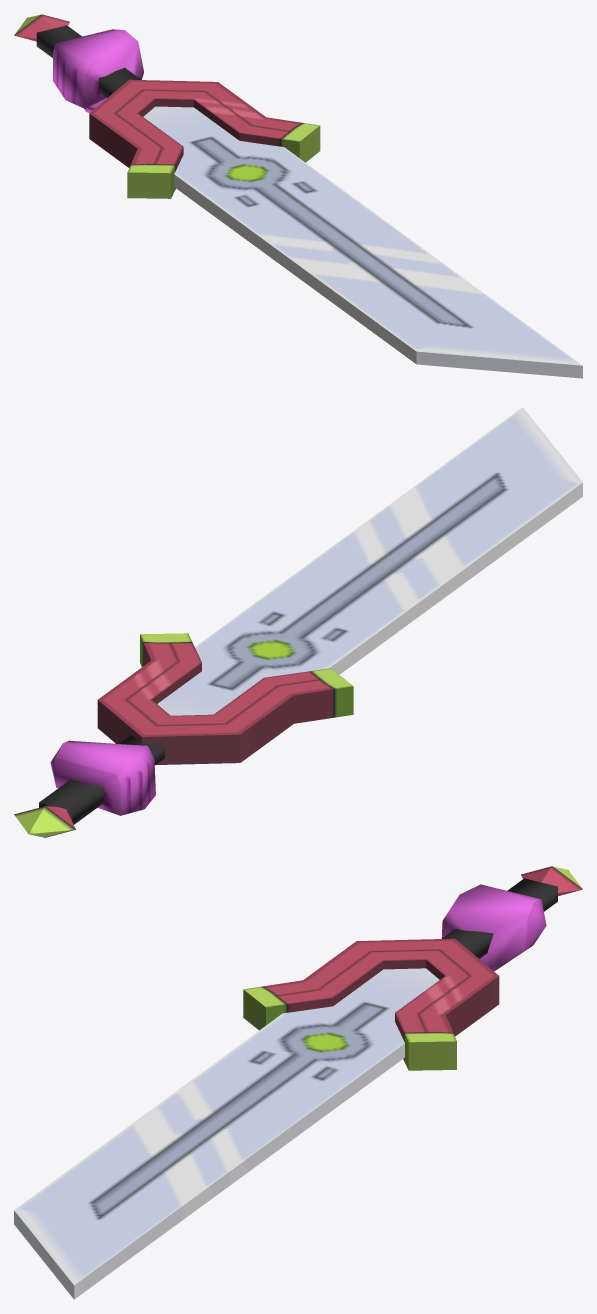
Rendered from shl035.obj.
3 renders of one model, top to bottom at view 1: azimuth 30°, elevation 25°; view 2: azimuth 150°, elevation 25°; view 3: azimuth 330°, elevation 25°, orthographic. The views are drawn at different scales.
Parts seen in each view (by area): view 1: default, polygon0; view 2: default, polygon0; view 3: default, polygon0.
Part boxes in pixels (x1,y1,x2,y2): default: [14, 14, 582, 378]; polygon0: [53, 29, 143, 112]; default: [14, 407, 582, 837]; polygon0: [50, 740, 155, 815]; default: [14, 866, 582, 1299]; polygon0: [441, 884, 546, 971].
Bounding box in the file's own units: 1.72 × 0.4971 × 7.74.
2 materials, 2 textured.
